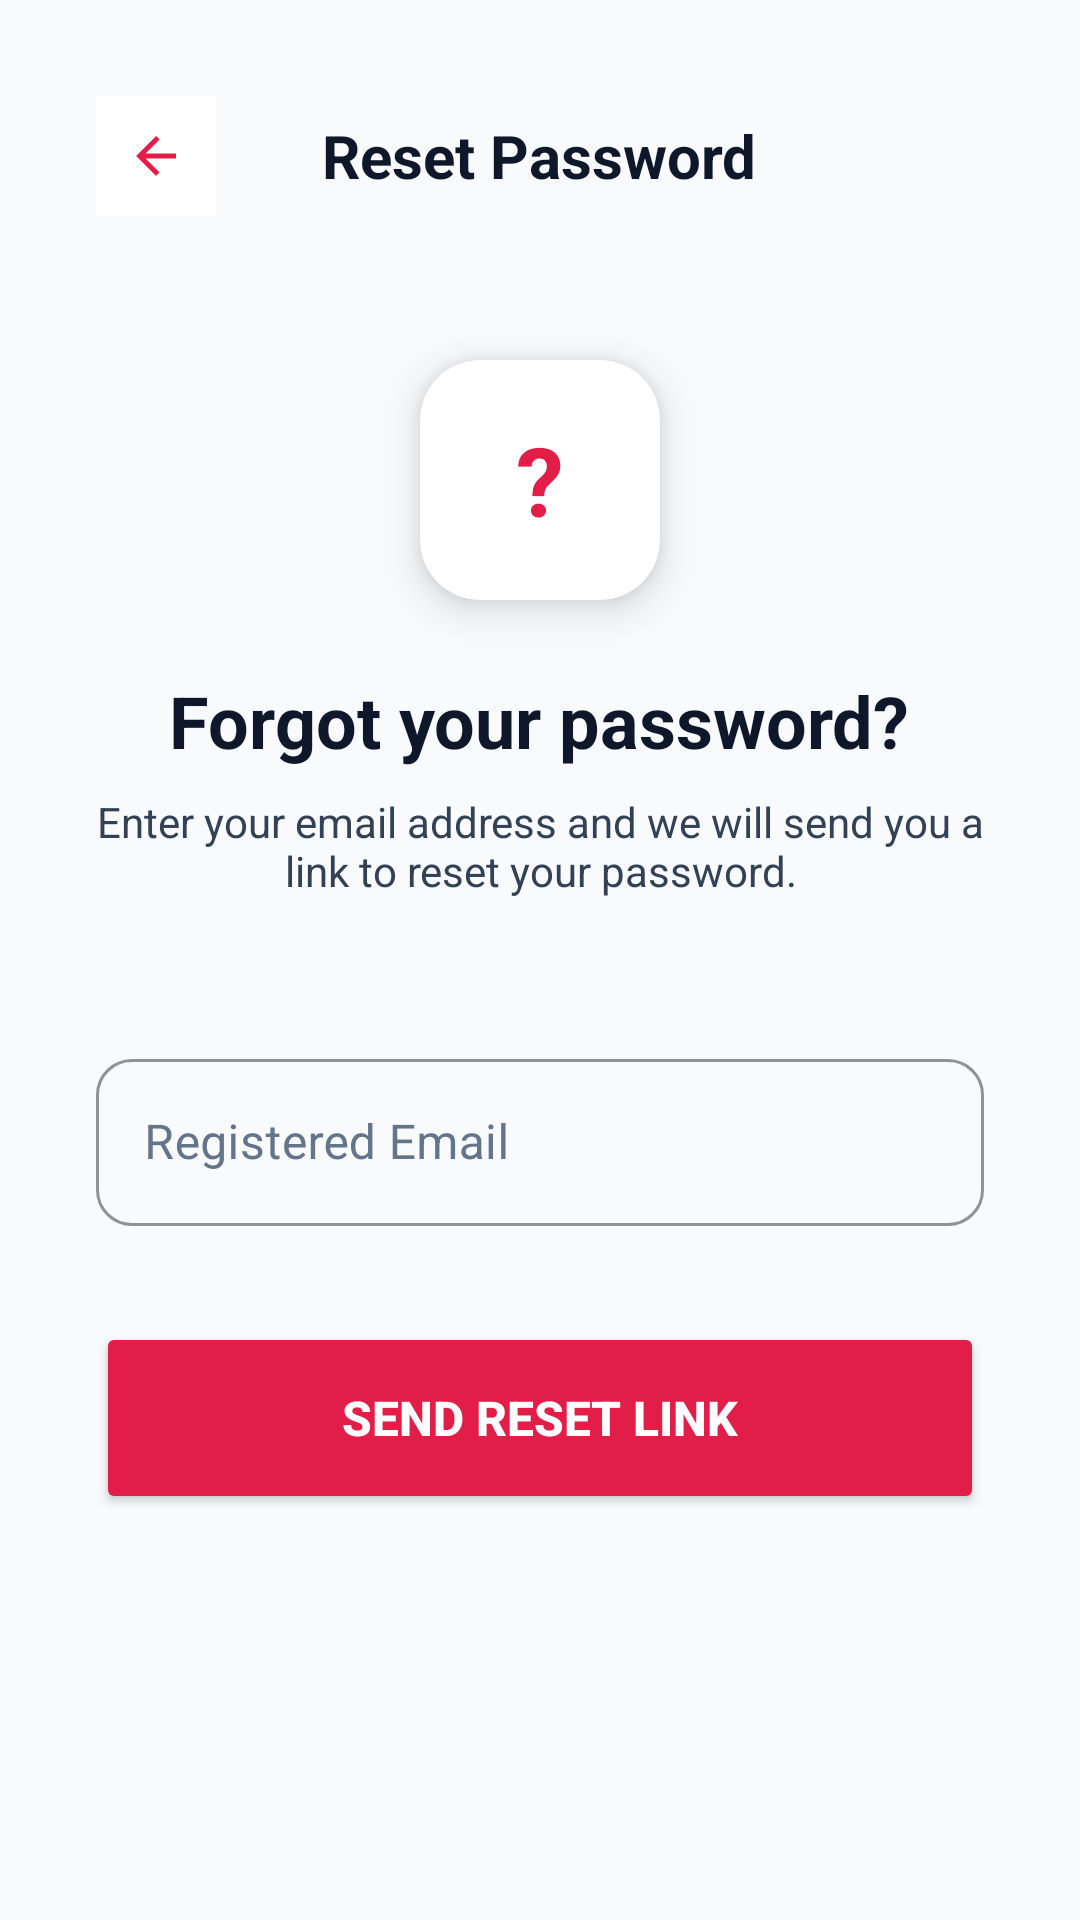

Named icons in this screenshot (1080x1920) and their bounding boxes, (x1, y1, x2, y2):
Back: (136, 136, 176, 176)
